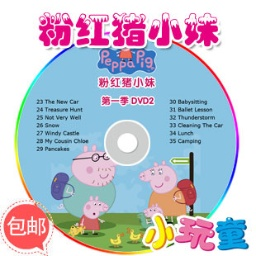Peppa: (79, 195, 108, 237)
